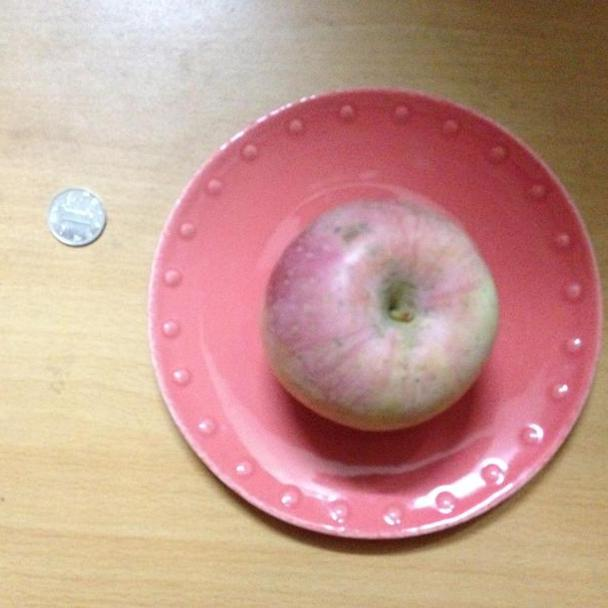apple: (263, 201, 506, 430)
